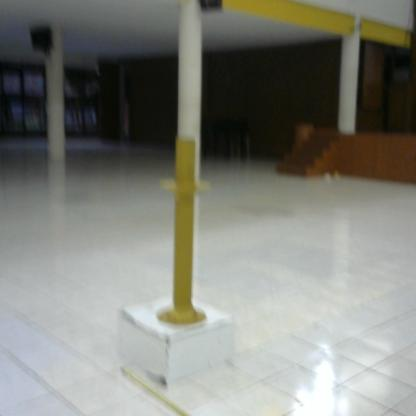pole: (154, 126, 215, 335)
